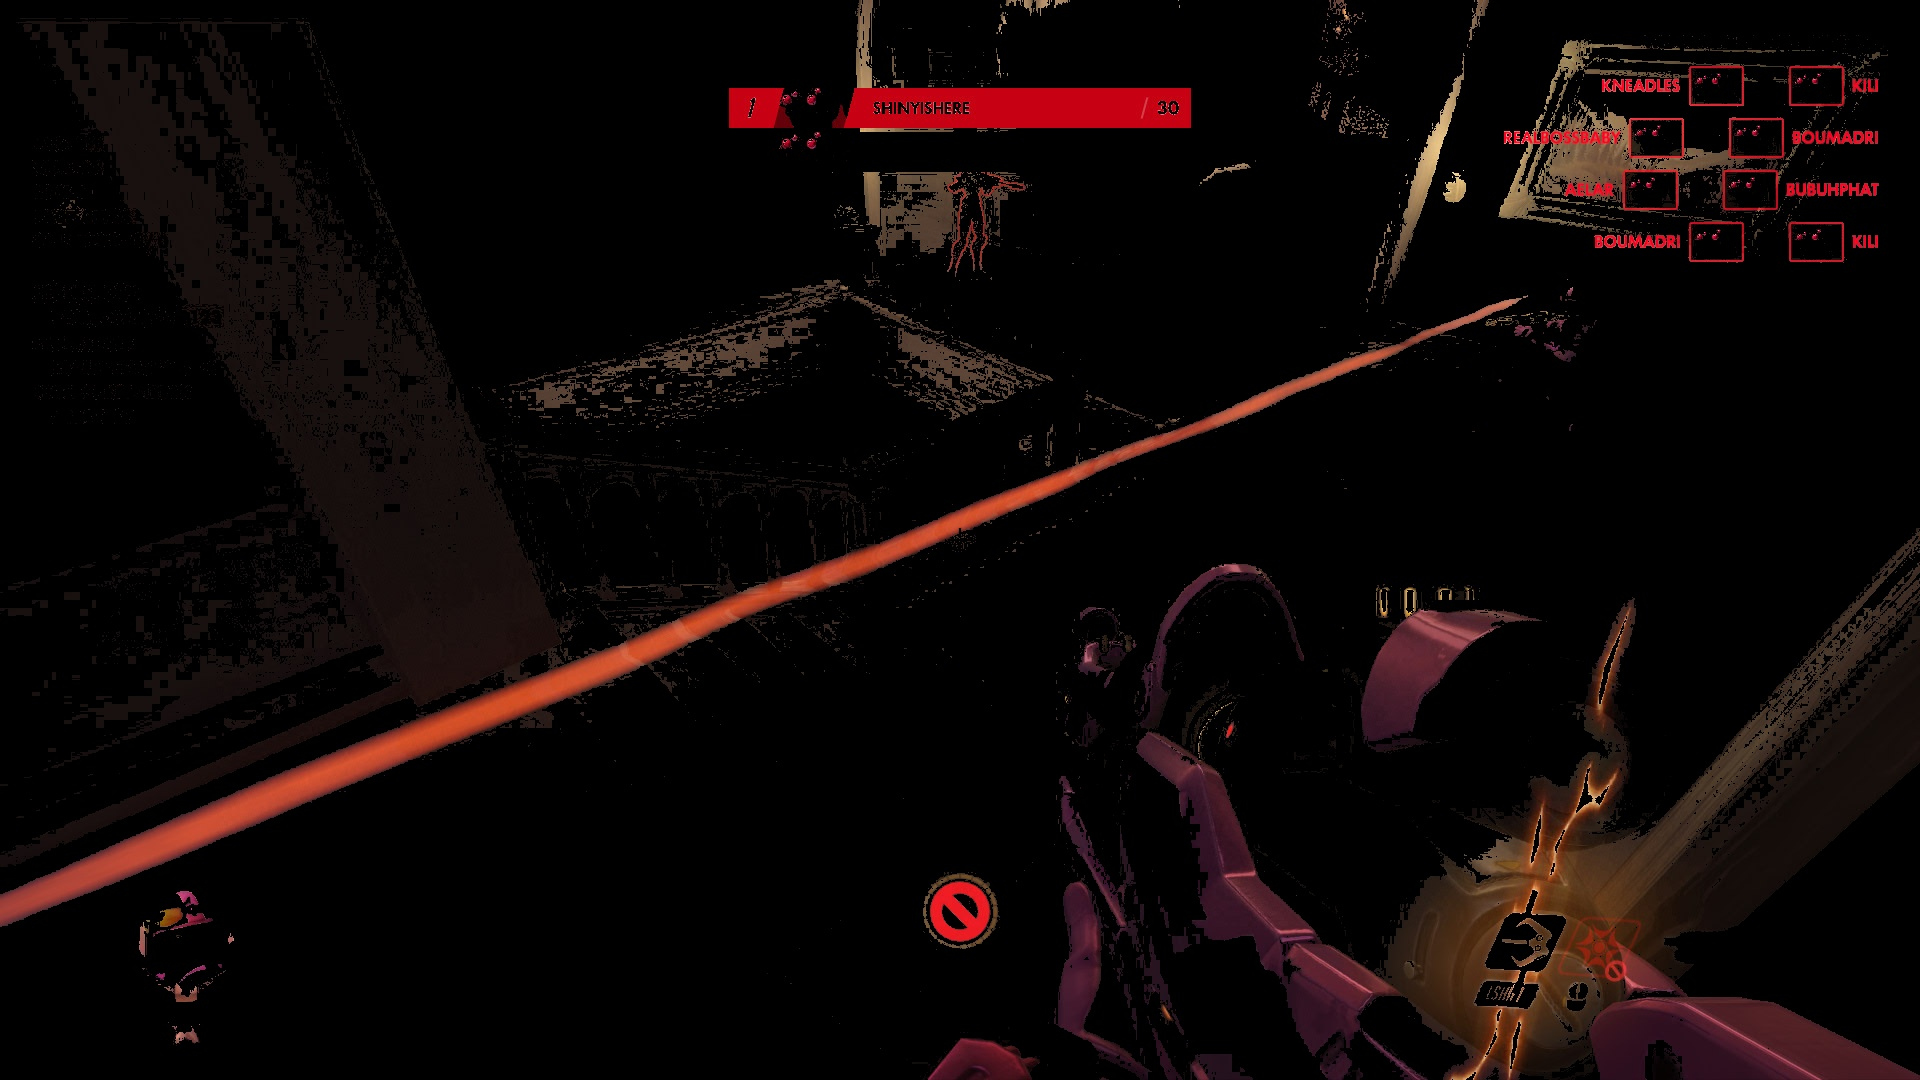widowmaker: (1476, 280, 1610, 448), (942, 169, 1007, 280)
